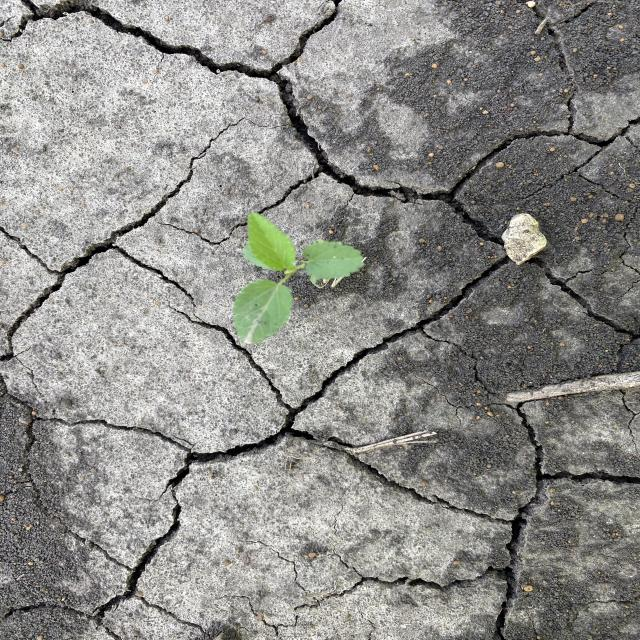PricklySida: (227, 209, 367, 348)
